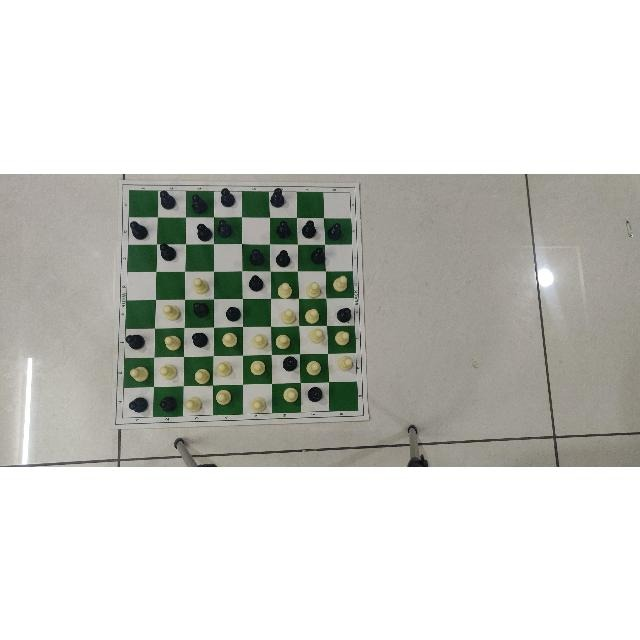black-pawn: (129, 219, 149, 241), (123, 332, 146, 350), (159, 188, 177, 210), (127, 394, 149, 412), (218, 186, 235, 208), (191, 193, 209, 213), (159, 241, 177, 261), (275, 219, 293, 239), (275, 247, 293, 267), (191, 299, 209, 319), (158, 394, 178, 412), (326, 219, 343, 240), (269, 186, 285, 208), (189, 330, 208, 348), (196, 222, 213, 242), (307, 383, 324, 403), (310, 244, 326, 265), (218, 217, 234, 237), (301, 218, 317, 238), (249, 247, 265, 267), (247, 274, 264, 292), (225, 304, 242, 322), (281, 354, 298, 372), (335, 306, 351, 324)
white-pawn: (160, 360, 180, 382), (190, 273, 211, 292), (161, 302, 181, 321), (129, 366, 150, 384), (164, 332, 182, 351), (280, 306, 298, 325), (331, 274, 349, 293), (304, 359, 322, 377), (282, 385, 299, 404), (192, 367, 211, 383), (277, 280, 293, 299), (184, 396, 203, 412), (221, 331, 238, 348), (273, 333, 290, 350), (303, 306, 320, 323), (252, 332, 268, 350), (216, 359, 232, 376), (248, 396, 266, 411), (309, 328, 325, 344), (250, 360, 266, 376), (334, 328, 349, 345), (305, 280, 320, 296), (338, 354, 352, 370), (216, 388, 229, 405)
